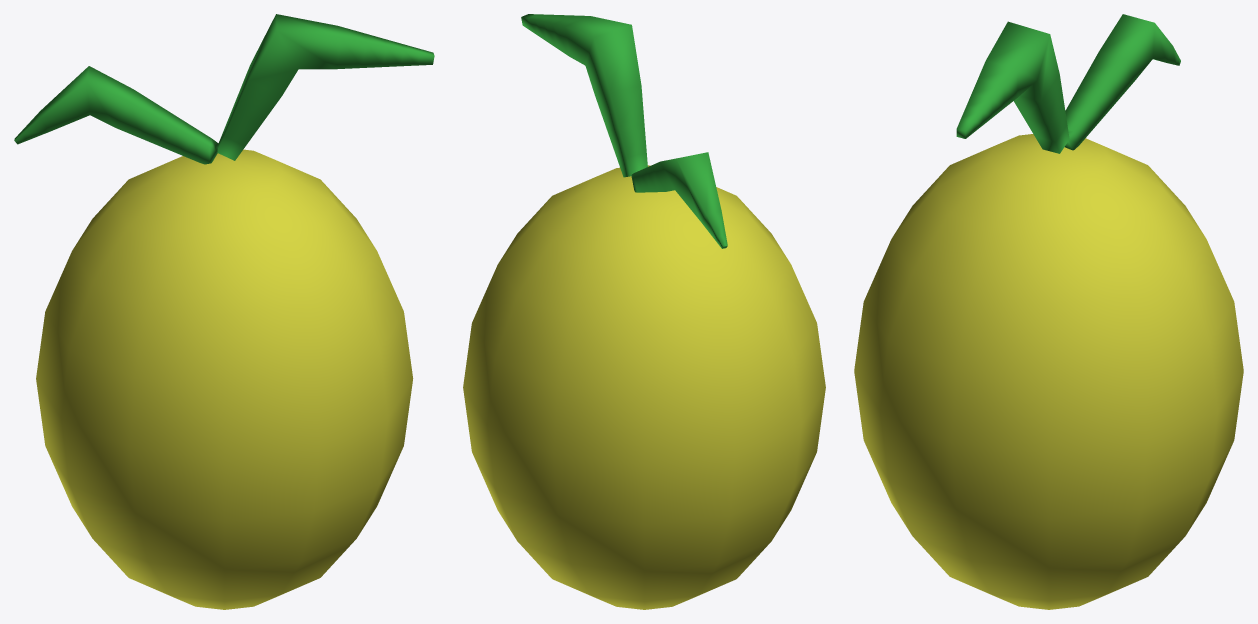
File: Lemon.fbx
3 renders of one model, left to right at view 1: azimuth 30°, elevation 25°; view 2: azimuth 150°, elevation 25°; view 3: azimuth 270°, elevation 25°, orthographic. The views are drawn at different scales.
Parts seen in each view (by area): view 1: Lemon; view 2: Lemon; view 3: Lemon.
Part boxes in pixels (<box>): Lemon: <box>14,14,434,609</box>; Lemon: <box>463,14,825,609</box>; Lemon: <box>854,14,1243,609</box>.
Size of the model in its own units: 0.5155 by 0.8485 by 0.5074.
